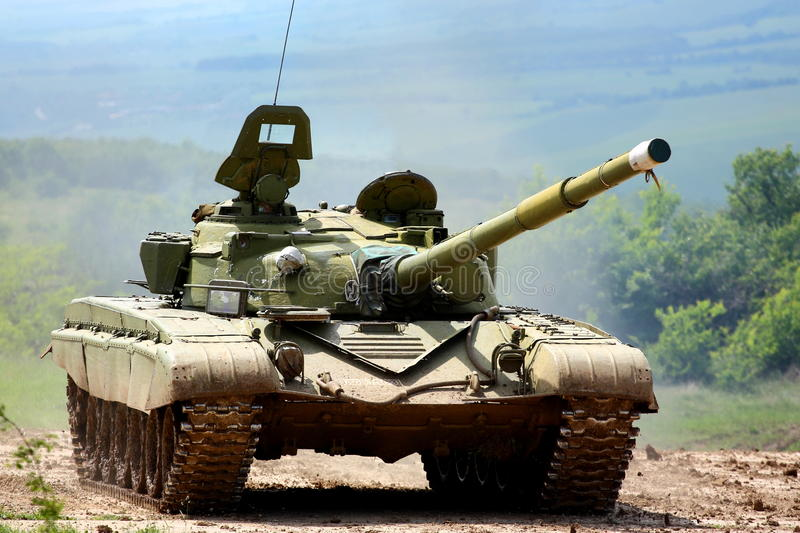t72: (69, 195, 643, 517)
